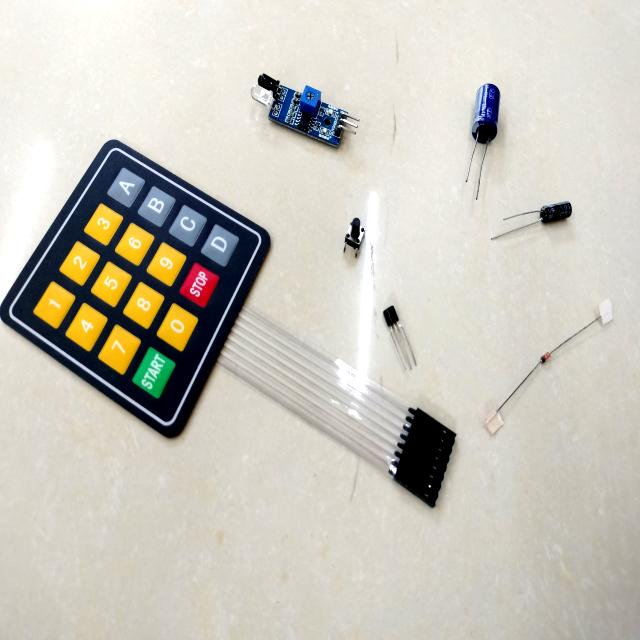capacitor: (472, 83, 500, 144), (540, 201, 572, 226)
